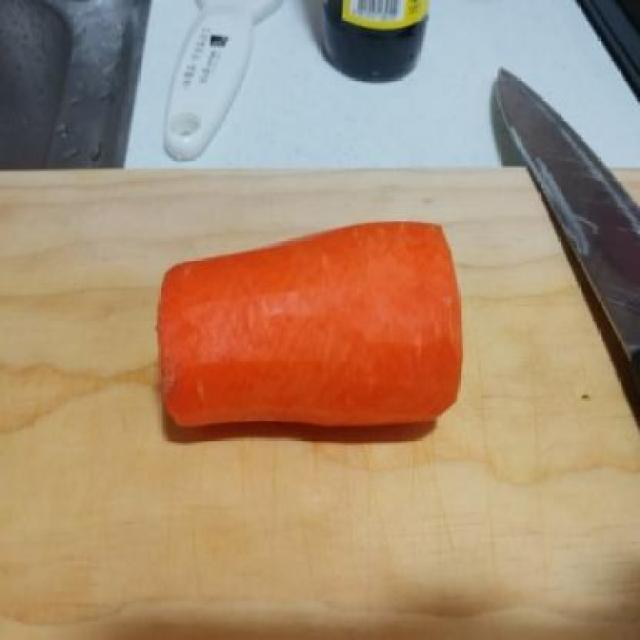carrot: (154, 216, 470, 442)
